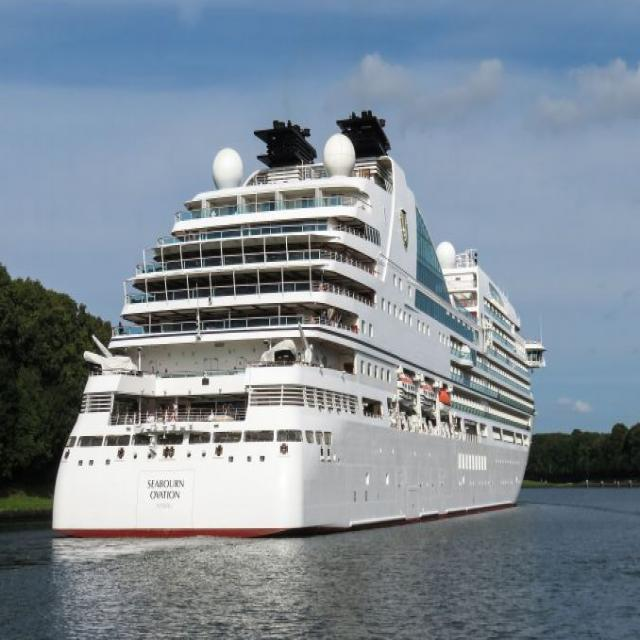cruises: (45, 105, 551, 551)
